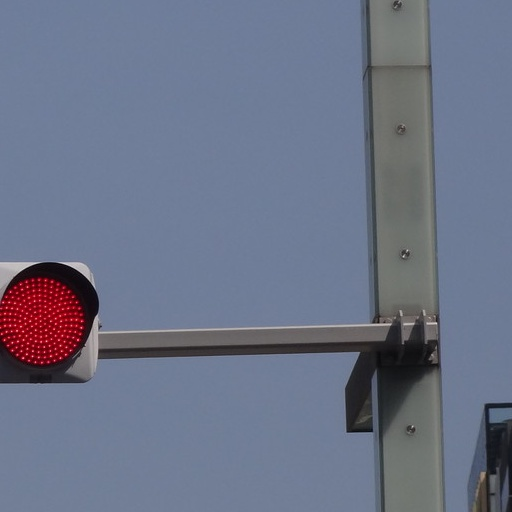Traffic_Signal_Red: (7, 258, 102, 372)
